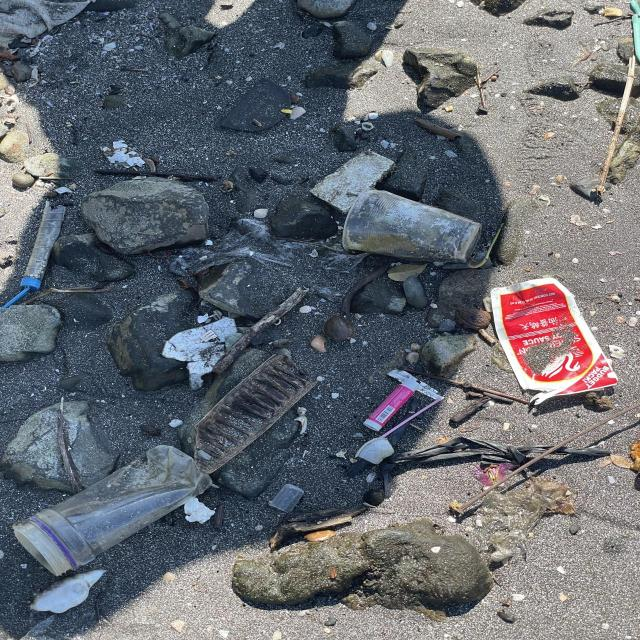plastic_waste: (12, 445, 214, 578), (491, 279, 620, 398), (342, 188, 484, 265), (20, 206, 68, 293)
